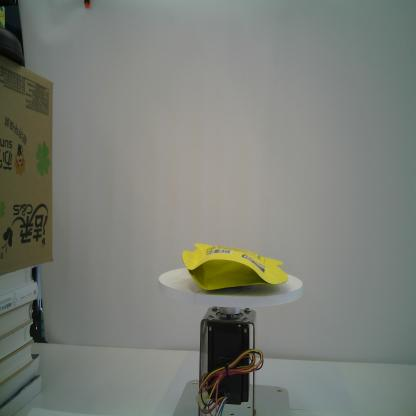Dried Fruit: (182, 242, 288, 290)
